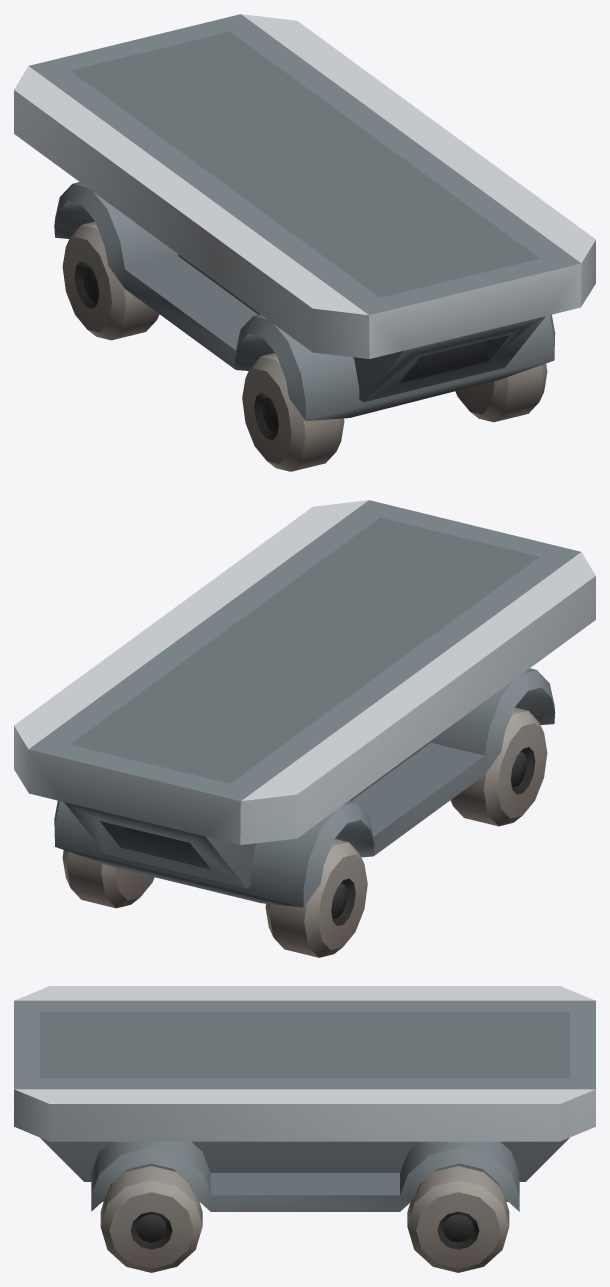
Rendered from Space Truck Trailer.glb.
The picture shows the model from 3 angles, top to bottom: view 1: azimuth 30°, elevation 25°; view 2: azimuth 150°, elevation 25°; view 3: azimuth 270°, elevation 25°; orthographic projection. The views are drawn at different scales.
Parts seen in each view (by area): view 1: spacetruck_trailer, spacetruck_trailer_wheel_front_right, spacetruck_trailer_wheel_rear_right, spacetruck_trailer_wheel_front_left; view 2: spacetruck_trailer, spacetruck_trailer_wheel_rear_right, spacetruck_trailer_wheel_front_right, spacetruck_trailer_wheel_rear_left; view 3: spacetruck_trailer, spacetruck_trailer_wheel_front_left, spacetruck_trailer_wheel_rear_left.
Boxes of the visible parts, x1,y1,x2,y2 form: spacetruck_trailer: (14, 14, 595, 420); spacetruck_trailer_wheel_front_right: (242, 353, 344, 471); spacetruck_trailer_wheel_rear_right: (62, 221, 159, 340); spacetruck_trailer_wheel_front_left: (455, 363, 547, 422); spacetruck_trailer: (14, 500, 595, 907); spacetruck_trailer_wheel_rear_right: (265, 839, 367, 957); spacetruck_trailer_wheel_front_right: (450, 707, 547, 826); spacetruck_trailer_wheel_rear_left: (62, 850, 154, 908); spacetruck_trailer: (14, 986, 595, 1211); spacetruck_trailer_wheel_front_left: (100, 1166, 202, 1272); spacetruck_trailer_wheel_rear_left: (407, 1166, 509, 1272).
Bounding box in the file's own units: 0.48 × 0.3382 × 1.
Materials: 1 (1 with a texture image).
